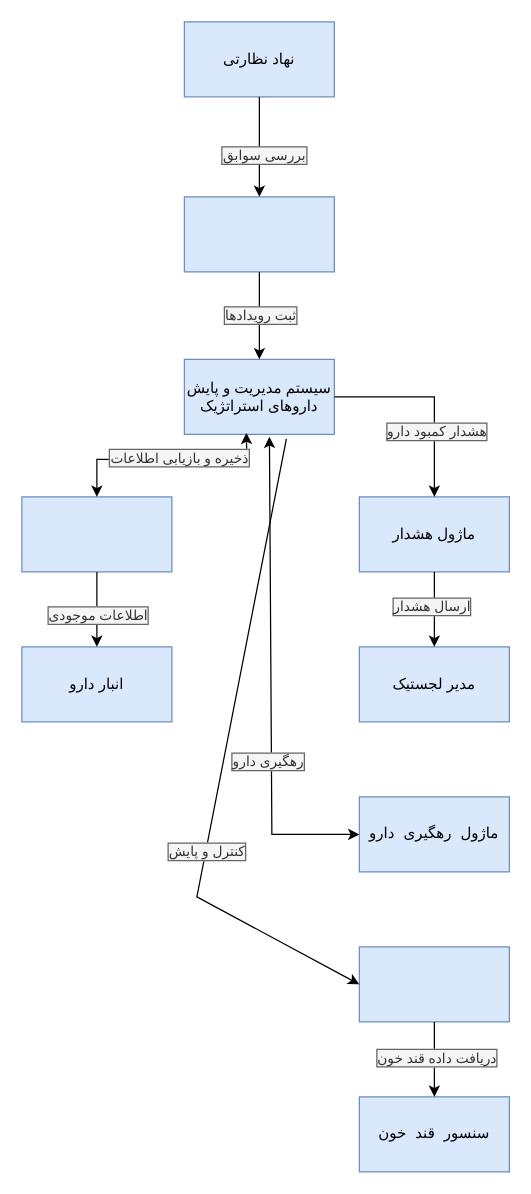
This 531x1194 diagram has some shape labels left out. Each missing label, with the box of its shape:
Audit Log: (183, 196, 334, 272)
پایگاه داده: (21, 496, 172, 572)
پمپ انسولین: (358, 946, 509, 1022)
